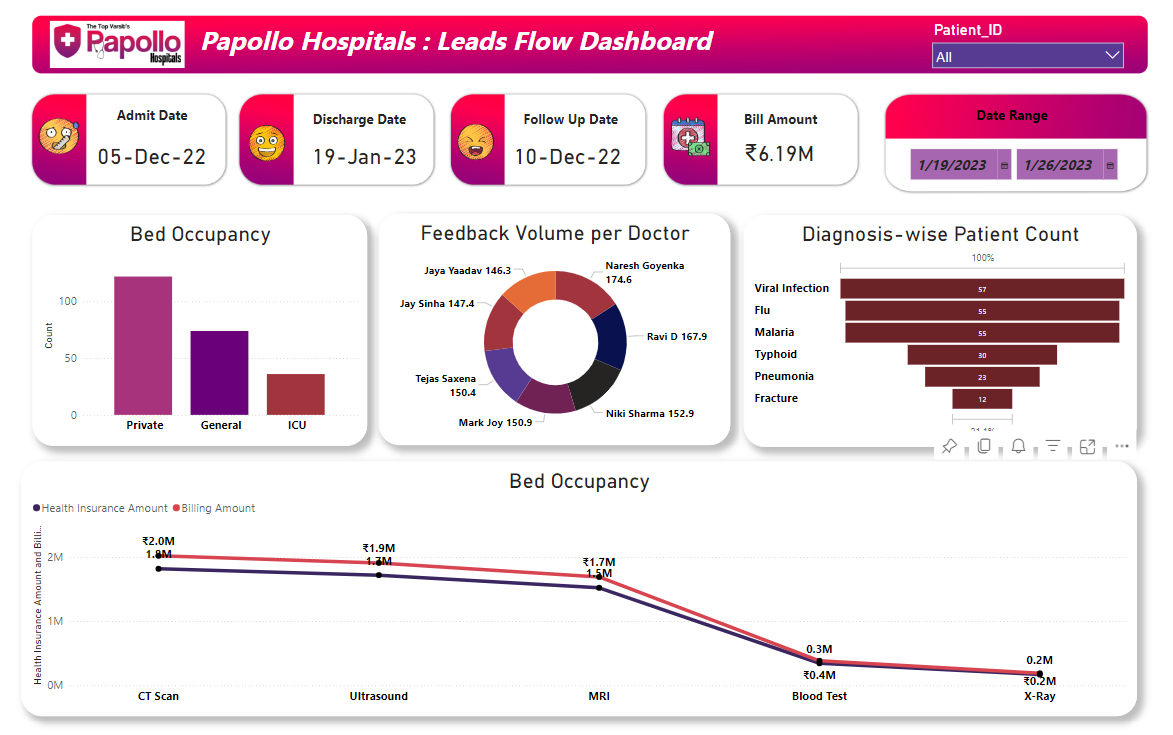

The dashboard page shown, as its layout file describes it:
{"tool":"powerbi","page":{"name":"Page 2","canvas":[1680,1050],"ordinal":0},"visuals":[{"type":"textbox","box":[280,27.1,755.7,74.3],"z":0},{"type":"image","box":[2636.7,100,623.3,150],"z":1000},{"type":"slicer","fields":{"Values":["Sheet1.Patient_ID"]},"box":[2400,373.3,793.3,420],"z":2000},{"type":"card","fields":{"Values":["Sheet1.Admit_Date"]},"box":[437.6,198.8,162.9,42.8],"z":3000},{"type":"card","fields":{"Values":["Sheet1.Discharge_Date"]},"box":[129.8,198.8,172.6,42.8],"z":4000},{"type":"card","fields":{"Values":["Sheet1.Followup Date"]},"box":[724.3,198.6,167.1,42.9],"z":5000},{"type":"textbox","box":[152.9,145.7,127.1,57.1],"z":6000},{"type":"textbox","box":[437.1,151.4,151.4,37.1],"z":7000},{"type":"textbox","box":[732.9,151.4,158.6,37.1],"z":8000},{"type":"textbox","box":[1035.7,151.4,151.4,37.1],"z":9000},{"type":"card","fields":{"Values":["Sheet1.Billing Amount"]},"box":[1031.4,194.3,158.6,42.9],"z":10000},{"type":"image","box":[50,157.1,68.6,74.3],"z":11000},{"type":"image","box":[348.6,172.9,62.9,62.9],"z":12000},{"type":"image","box":[640,171.4,77.1,62.9],"z":13000},{"type":"image","box":[951.4,158.6,65.7,71.4],"z":14000},{"type":"columnChart","title":"Bed Occupancy","fields":{"Category":["Sheet1.Bed_Occupancy"],"Y":["Sheet1.Bed_Occupancy"]},"box":[47.1,305.7,477.1,328.6],"z":15000},{"type":"donutChart","title":"Feedback Volume per Doctor","fields":{"Category":["Sheet1.Doctor"],"Y":["Sheet1.Feedback"]},"box":[540.2,305.2,501,329.5],"z":16000},{"type":"funnel","title":"Diagnosis-wise Patient Count","fields":{"Category":["Sheet1.Diagnosis"],"Y":["Sheet1.Diagnosis"]},"box":[1060,305.7,560,330],"z":17000},{"type":"image","box":[30,24.3,274.3,77.1],"z":18000},{"type":"lineChart","title":"Bed Occupancy","fields":{"Y":["Sheet1.Health Insurance Amount","Sheet1.Billing Amount"],"Category":["Sheet1.Test"]},"box":[31.1,656.3,1589.5,363.3],"z":19000},{"type":"slicer","fields":{"Values":["Sheet1.Admit_Date"]},"box":[1284.3,201.2,360.6,68.9],"z":20000},{"type":"slicer","fields":{"Values":["Sheet1.Patient_ID"]},"box":[1317.1,24.3,292.9,82.9],"z":21000},{"type":"textbox","box":[1365.7,145.7,151.4,37.1],"z":22000}]}

Visuals, with their boxes in screenshot pixels (x1, y1, x2, y2), scaled from the page's 1680x1050 canvas onto the 1173x735 screenshot:
textbox: [left=196, top=19, right=723, bottom=71]
card - Sheet1.Admit_Date: [left=306, top=139, right=419, bottom=169]
card - Sheet1.Discharge_Date: [left=91, top=139, right=211, bottom=169]
card - Sheet1.Followup Date: [left=506, top=139, right=622, bottom=169]
textbox: [left=107, top=102, right=196, bottom=142]
textbox: [left=305, top=106, right=411, bottom=132]
textbox: [left=512, top=106, right=622, bottom=132]
textbox: [left=723, top=106, right=829, bottom=132]
card - Sheet1.Billing Amount: [left=720, top=136, right=831, bottom=166]
image: [left=35, top=110, right=83, bottom=162]
image: [left=243, top=121, right=287, bottom=165]
image: [left=447, top=120, right=501, bottom=164]
image: [left=664, top=111, right=710, bottom=161]
"Bed Occupancy" columnChart: [left=33, top=214, right=366, bottom=444]
"Feedback Volume per Doctor" donutChart: [left=377, top=214, right=727, bottom=444]
"Diagnosis-wise Patient Count" funnel: [left=740, top=214, right=1131, bottom=445]
image: [left=21, top=17, right=212, bottom=71]
"Bed Occupancy" lineChart: [left=22, top=459, right=1132, bottom=714]
slicer - Sheet1.Admit_Date: [left=897, top=141, right=1148, bottom=189]
slicer - Sheet1.Patient_ID: [left=920, top=17, right=1124, bottom=75]
textbox: [left=954, top=102, right=1059, bottom=128]
